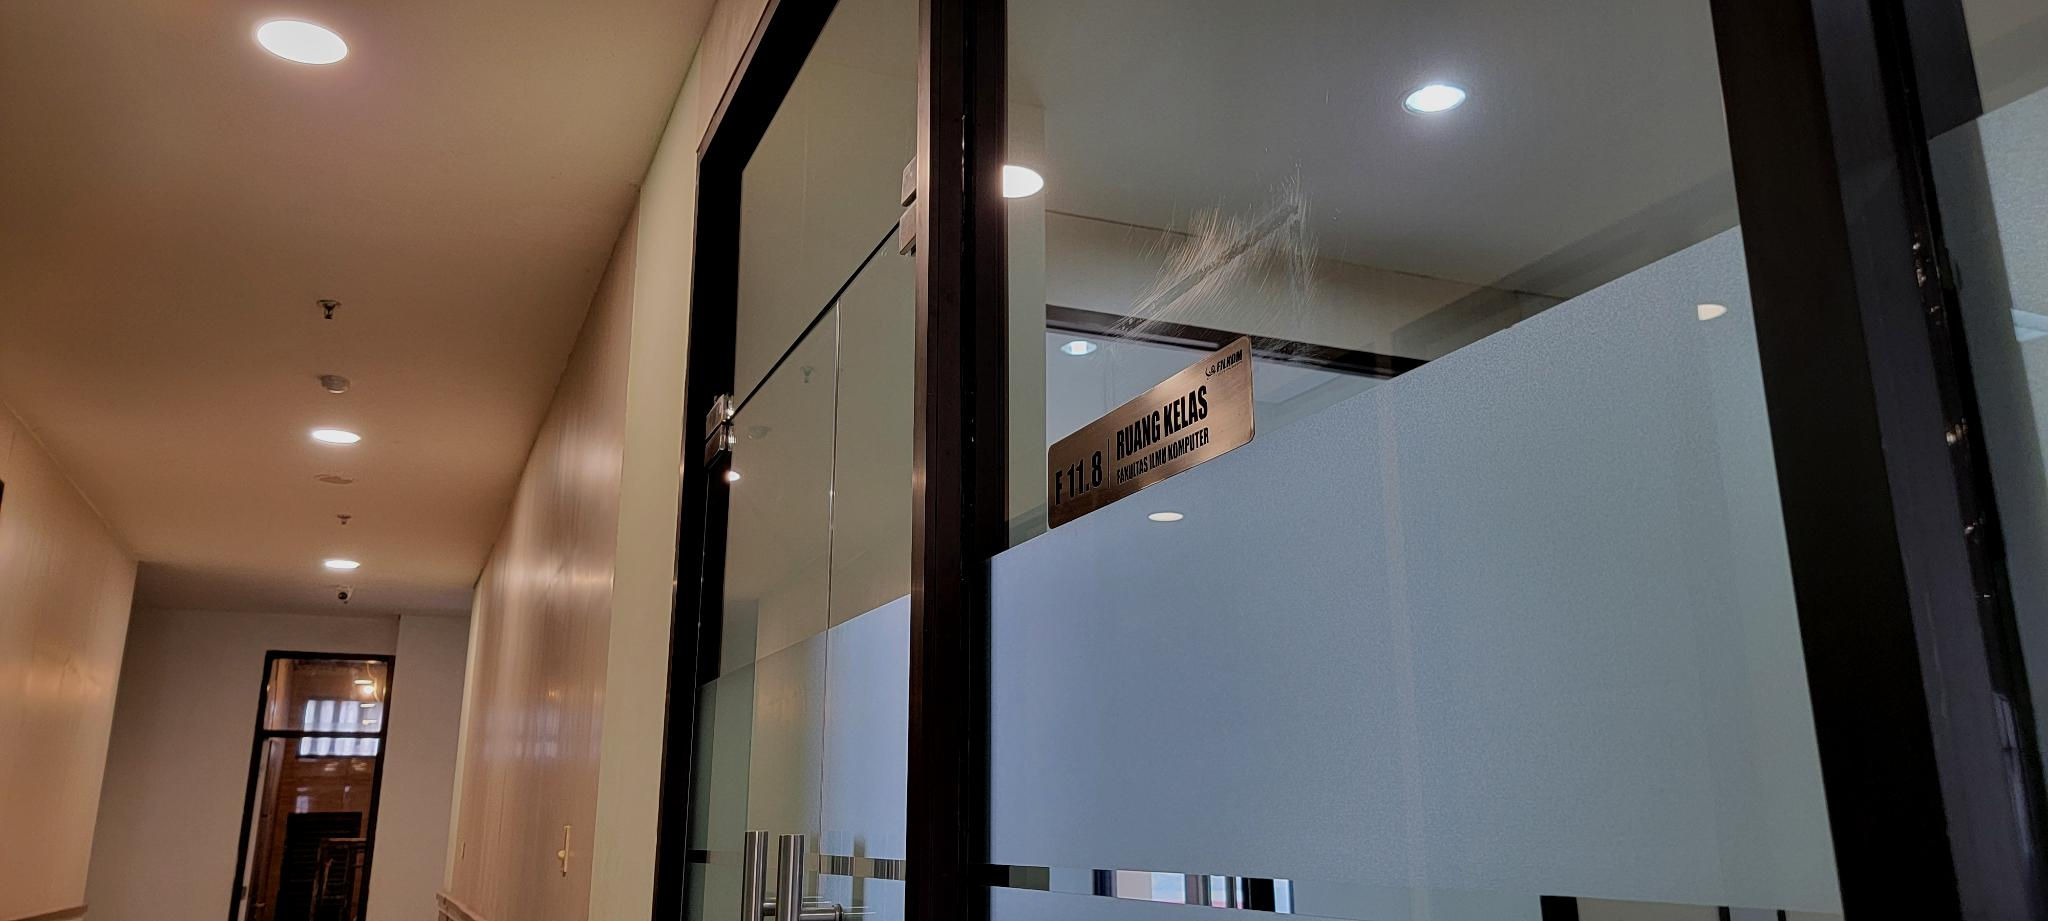plate: (1045, 331, 1255, 529)
